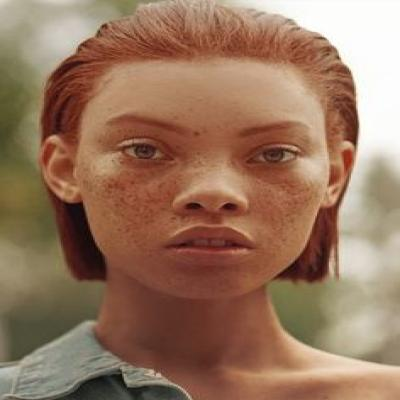netural: (81, 57, 326, 295)
